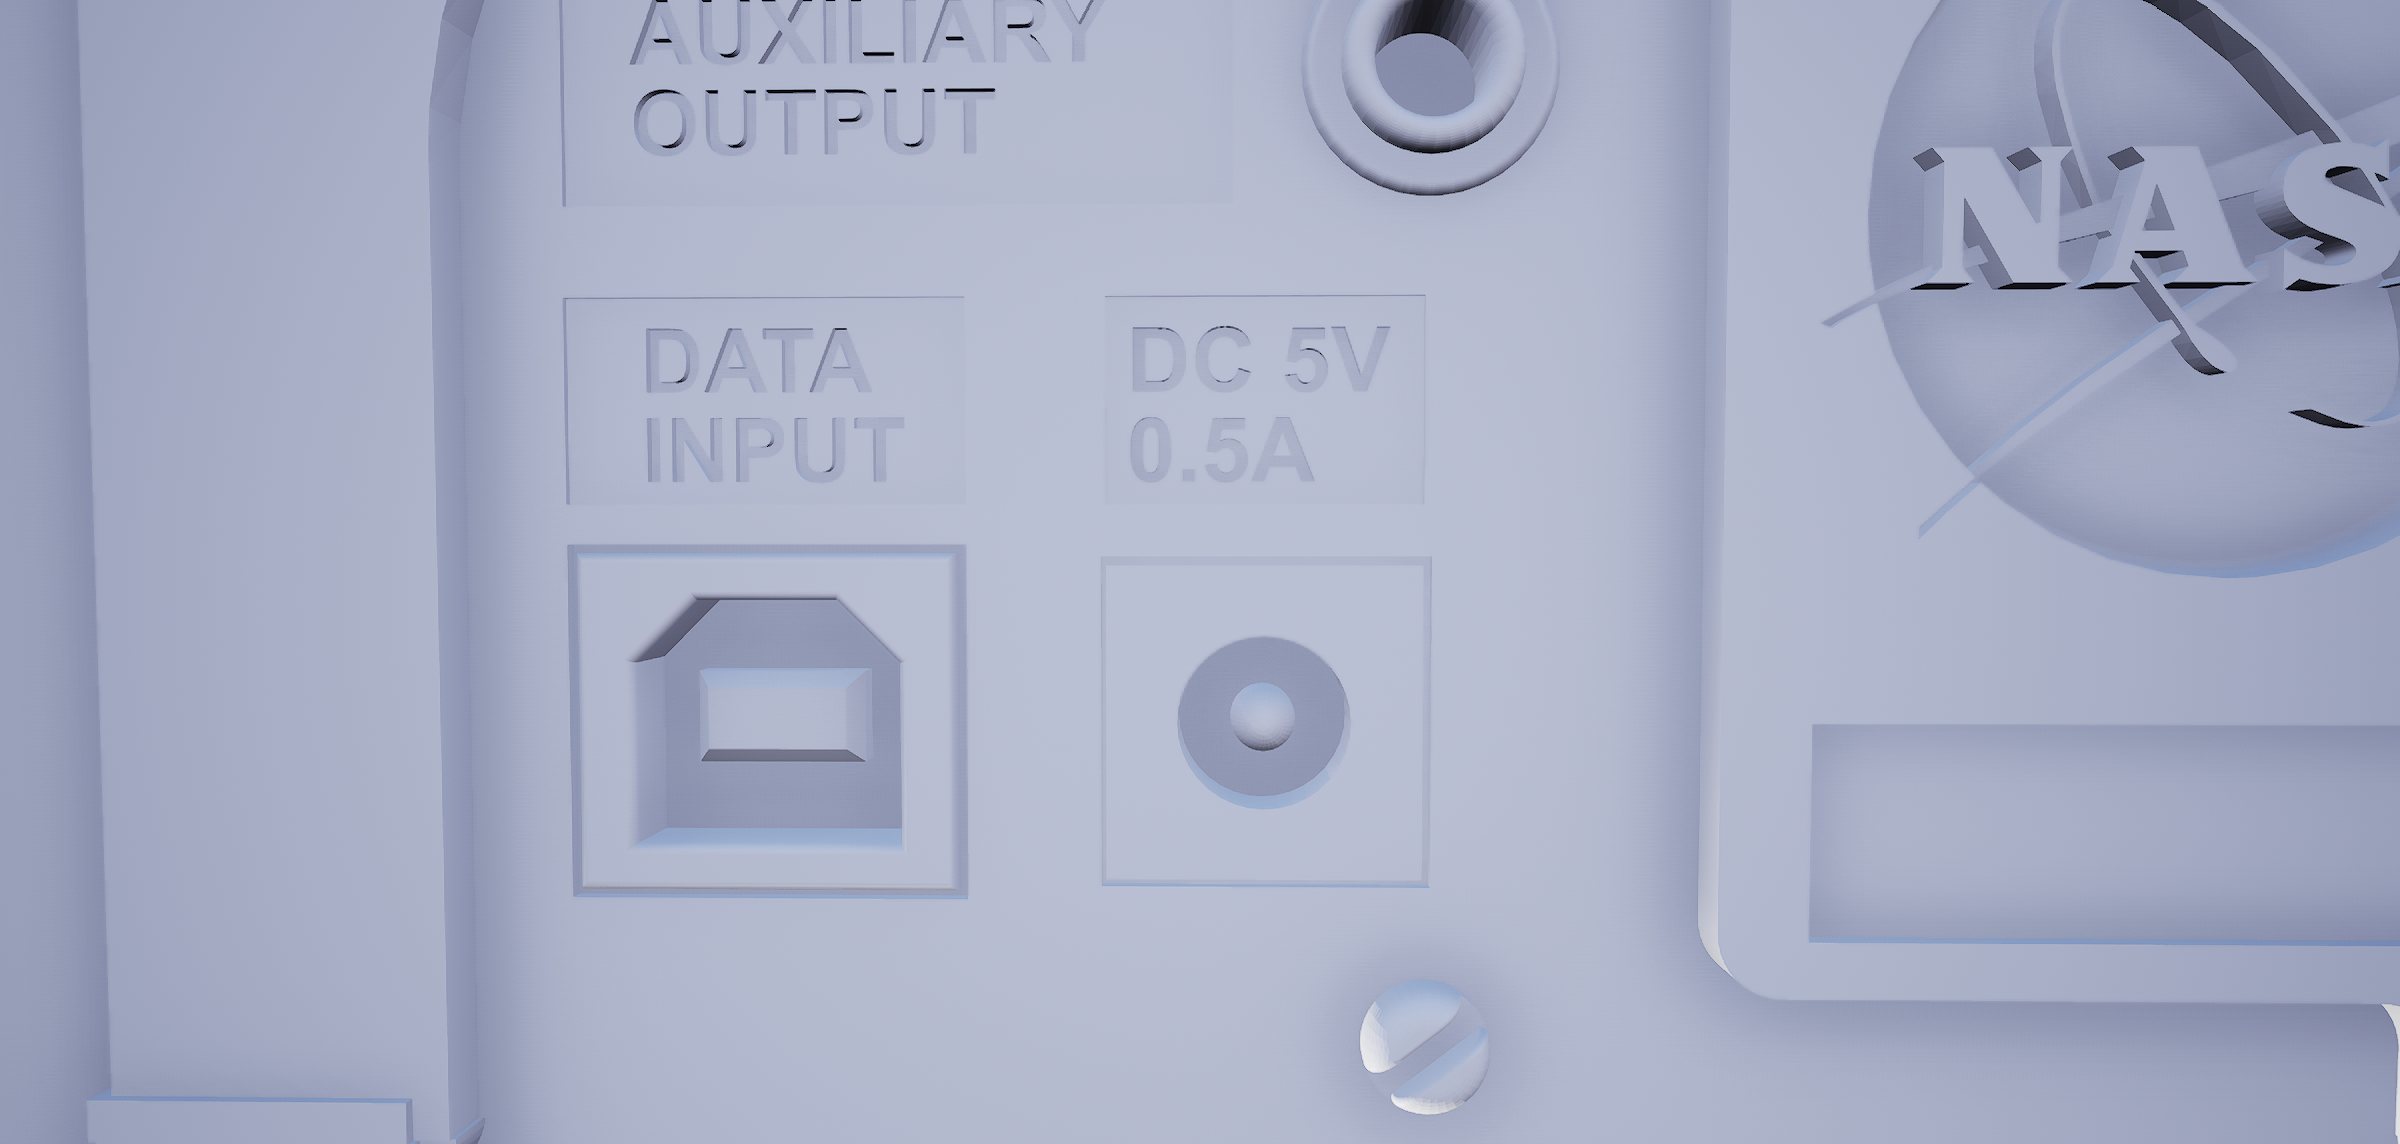aux: (1283, 2, 1569, 213)
dc: (1159, 620, 1378, 821)
usb: (609, 580, 914, 868)
